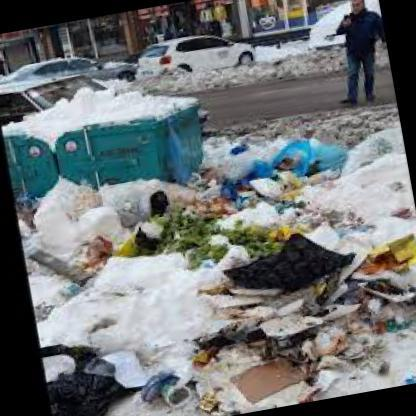Garbage: (167, 206, 415, 415), (26, 195, 304, 302), (176, 290, 370, 414), (63, 304, 208, 415), (96, 190, 240, 282), (334, 213, 415, 373), (220, 153, 332, 242), (244, 119, 353, 184), (217, 212, 284, 272)
